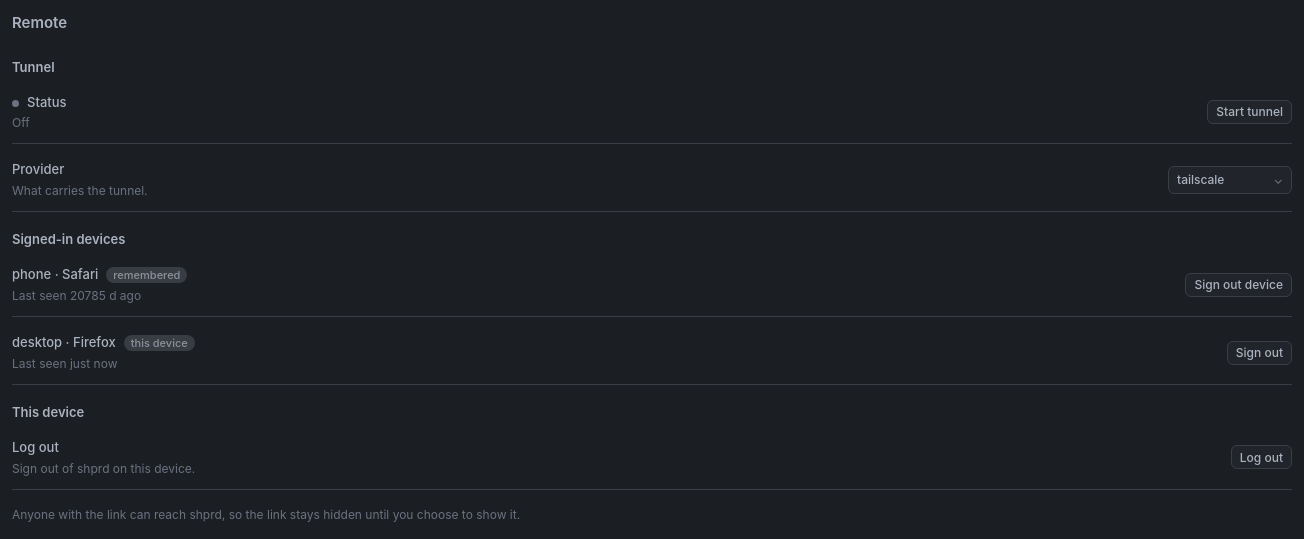
Test: RemotePage: sessions and logout › lists devices, marks this one, and revokes another
The width and height of the screenshot is (1304, 539).
Expected: the text "phone · Safari" is shown, [12,266,98,282]
Expected: the text "this device" is shown, [124,335,195,351]
Click the button with aria-label "Revoke phone · Safari (aaaaaaaaaaaa)". click: (1239, 285)
box: [1186,273,1292,297]
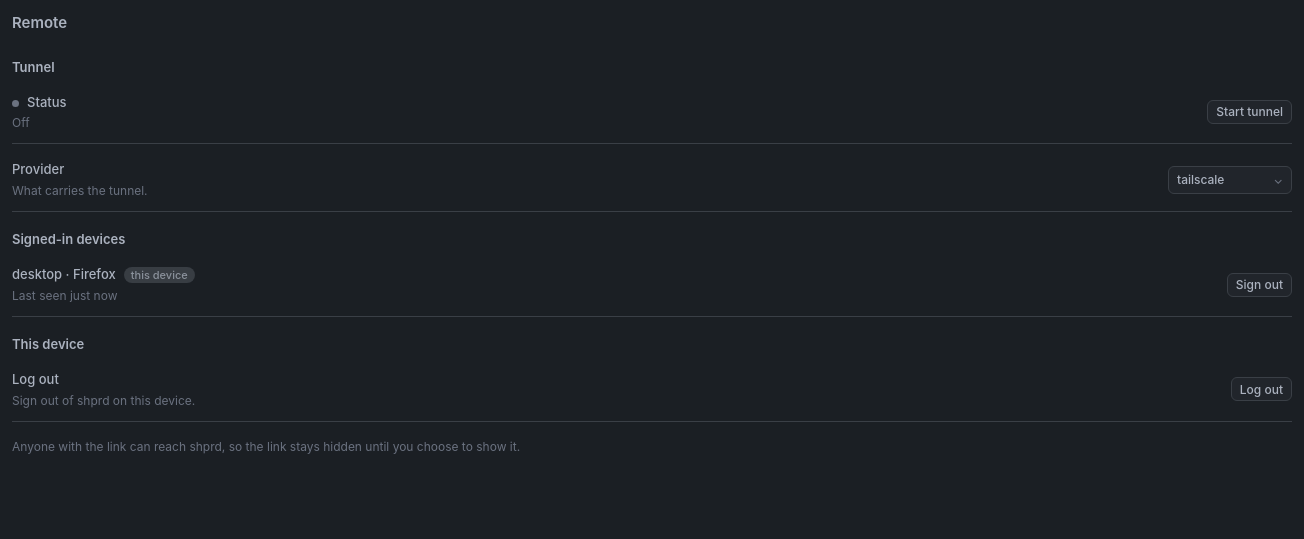
Expected: the text "desktop · Firefox" is shown, [12,266,116,282]
Now the text "phone · Safari" is gone
